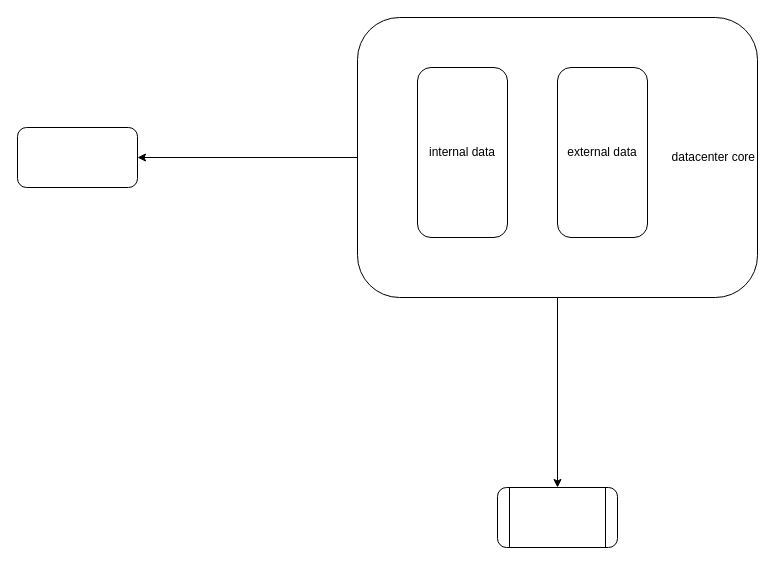
Image size: 775x565. Some labels were removed from this diagram. The shapes that lost their labels are listed below. From the top down, each one's centre as x and y in pixels, then its label:
the point at 77,157: external services
the point at 557,517: database
